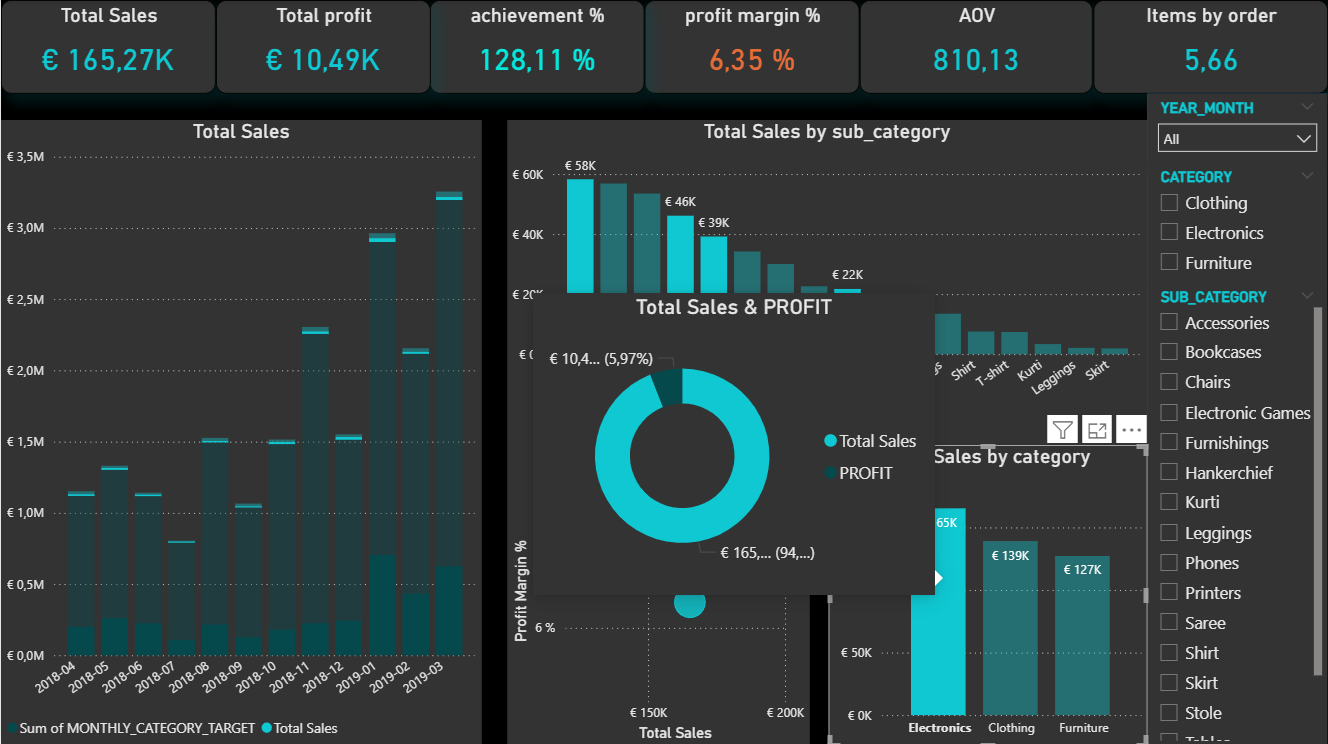

Layout of this report page (visuals, bound fields, positions):
{"tool":"powerbi","page":{"name":"Page 1","canvas":[1280,720],"ordinal":0},"visuals":[{"type":"card","title":"Total Sales","fields":{"Values":["SALES_PERFORMANCE_VIEW.Total Sales"]},"box":[0,0,207.2,90.6],"z":0},{"type":"card","title":"profit margin %","fields":{"Values":["SALES_PERFORMANCE_VIEW.Profit Margin %"]},"box":[621.6,0,207.2,90.6],"z":1000},{"type":"card","title":"achievement %","fields":{"Values":["SALES_PERFORMANCE_VIEW.Achievement %"]},"box":[414.4,0,207.2,90.6],"z":2000},{"type":"card","title":"Total profit","fields":{"Values":["Sum(SALES_PERFORMANCE_VIEW.PROFIT)"]},"box":[207.2,0,207.2,90.6],"z":3000},{"type":"card","title":"AOV","fields":{"Values":["SALES_PERFORMANCE_VIEW.AOV"]},"box":[828.8,0,225,90.6],"z":4000},{"type":"card","title":"Items by order","fields":{"Values":["SALES_PERFORMANCE_VIEW.Items by order"]},"box":[1053.9,0,226.4,90.6],"z":5000},{"type":"columnChart","title":"Total Sales","fields":{"Category":["SALES_PERFORMANCE_VIEW.YEAR_MONTH"],"Y":["Sum(SALES_PERFORMANCE_VIEW.MONTHLY_CATEGORY_TARGET)","SALES_PERFORMANCE_VIEW.Total Sales"]},"box":[0,115.3,463.8,605.1],"z":6000},{"type":"scatterChart","title":"Total Sales","fields":{"X":["SALES_PERFORMANCE_VIEW.Total Sales"],"Y":["SALES_PERFORMANCE_VIEW.Profit Margin %"],"Size":["Sum(SALES_PERFORMANCE_VIEW.QUANTITY)"],"Category":["SALES_PERFORMANCE_VIEW.CATEGORY"]},"box":[488.5,429.5,292.3,290.9],"z":7000},{"type":"columnChart","title":"Total Sales by category","fields":{"Y":["SALES_PERFORMANCE_VIEW.Total Sales"],"Category":["SALES_PERFORMANCE_VIEW.CATEGORY"]},"box":[798.6,429.5,307.4,290.9],"z":8000},{"type":"columnChart","title":"Total Sales by sub_category","fields":{"Y":["SALES_PERFORMANCE_VIEW.Total Sales"],"Category":["SALES_PERFORMANCE_VIEW.SUB_CATEGORY"]},"box":[488.5,115.3,617.5,314.2],"z":9000},{"type":"shape","box":[1106.3,90.5,173.7,629.8],"z":10000},{"type":"slicer","fields":{"Values":["SALES_PERFORMANCE_VIEW.YEAR_MONTH"]},"box":[1106.3,90.5,173.7,74.8],"z":11000},{"type":"slicer","fields":{"Values":["SALES_PERFORMANCE_VIEW.CATEGORY"]},"box":[1106.3,156.8,173.7,115.8],"z":12000},{"type":"slicer","fields":{"Values":["SALES_PERFORMANCE_VIEW.SUB_CATEGORY"]},"box":[1106.3,272.7,173.7,447.6],"z":13000}]}

Visuals, with their boxes in screenshot pixels (x1, y1, x2, y2), scaled from the page's 1280x720 canvas onto the 1328x744 screenshot:
"Total Sales" card: left=0, top=0, right=215, bottom=94
"profit margin %" card: left=645, top=0, right=860, bottom=94
"achievement %" card: left=430, top=0, right=645, bottom=94
"Total profit" card: left=215, top=0, right=430, bottom=94
"AOV" card: left=860, top=0, right=1093, bottom=94
"Items by order" card: left=1093, top=0, right=1327, bottom=94
"Total Sales" columnChart: left=0, top=119, right=481, bottom=743
"Total Sales" scatterChart: left=507, top=444, right=810, bottom=743
"Total Sales by category" columnChart: left=829, top=444, right=1147, bottom=743
"Total Sales by sub_category" columnChart: left=507, top=119, right=1147, bottom=444
shape: left=1148, top=94, right=1327, bottom=743
slicer - SALES_PERFORMANCE_VIEW.YEAR_MONTH: left=1148, top=94, right=1327, bottom=171
slicer - SALES_PERFORMANCE_VIEW.CATEGORY: left=1148, top=162, right=1327, bottom=282
slicer - SALES_PERFORMANCE_VIEW.SUB_CATEGORY: left=1148, top=282, right=1327, bottom=743
